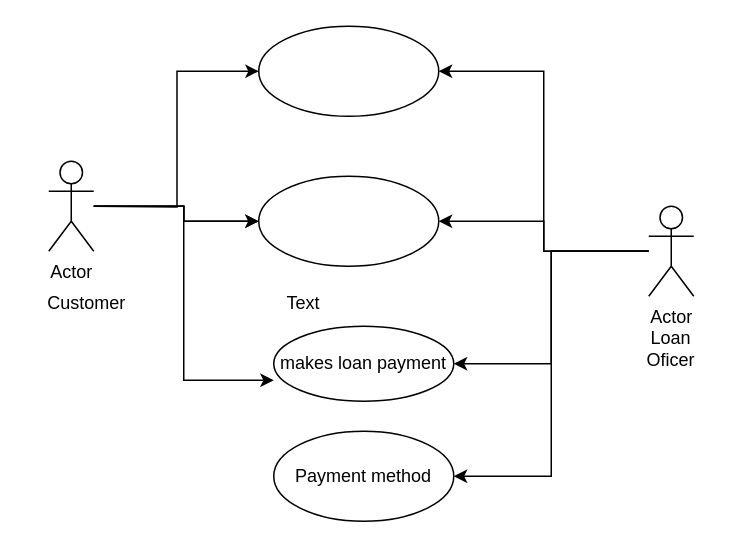
Image size: 741x548. Some labels were removed from this diagram. Here are the shapes that lost their labels. From the top down, the centre of each, then its label:
At [348,70]: "Create Account".
At [348,220]: "Borrows Loan".
